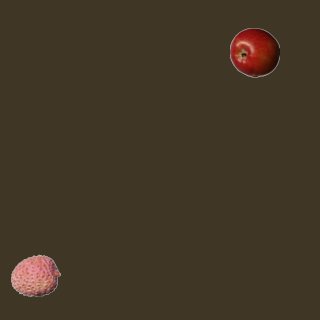Apple Braeburn: (229, 27, 279, 77)
Lychee: (10, 250, 60, 300)
